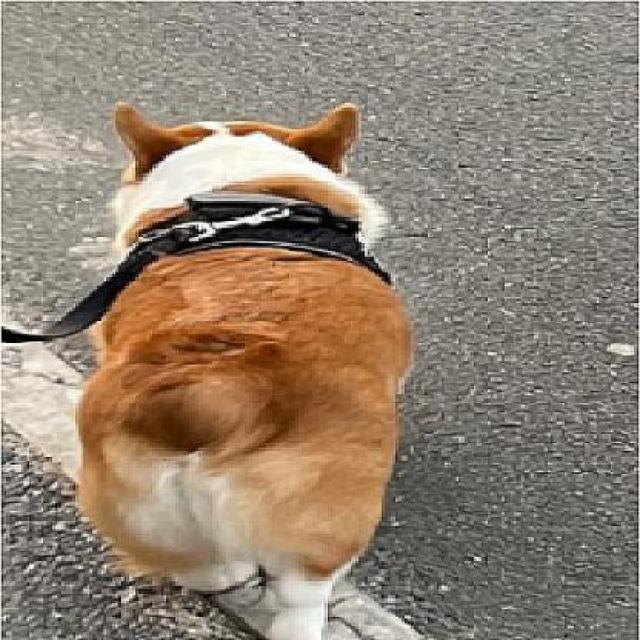Dog: (72, 92, 418, 638)
